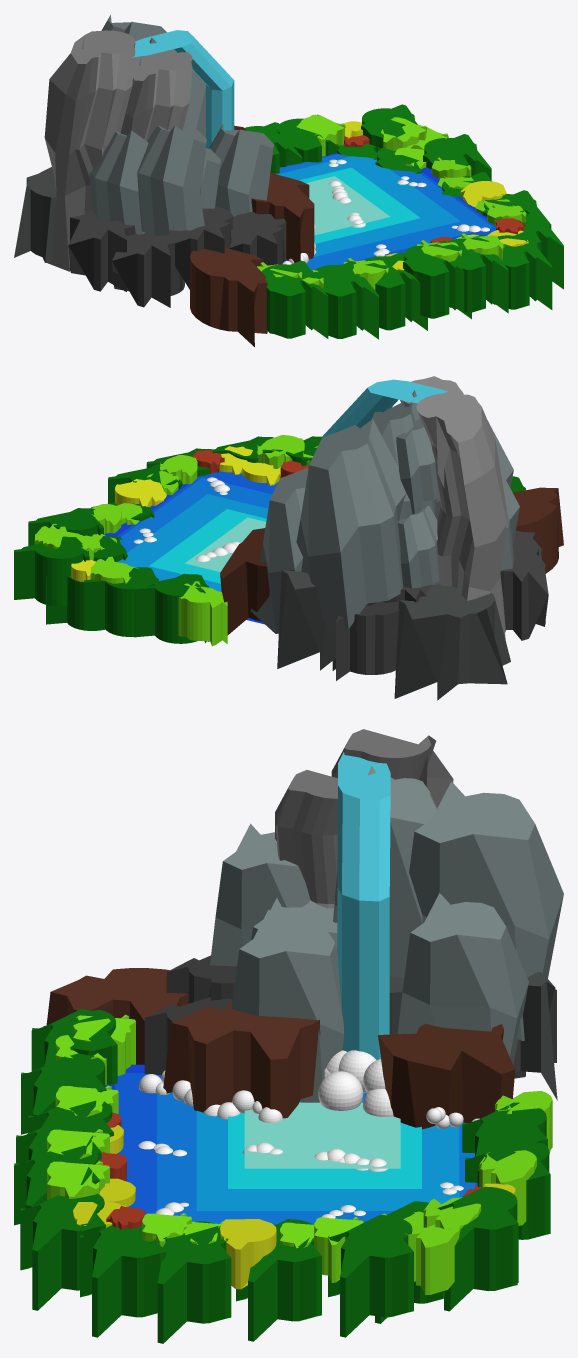
Rendered from waterfall.glb.
3 renders of one model, top to bottom at view 1: azimuth 30°, elevation 25°; view 2: azimuth 150°, elevation 25°; view 3: azimuth 270°, elevation 25°, orthographic. The views are drawn at different scales.
Visible parts, largest first — view 1: Cylinder.011, Cylinder.018, Cylinder.024, Cylinder.013, Plane.003, Cylinder.001, Cylinder.019, Cylinder.042, Cylinder.016, Plane.004, Cylinder, Cylinder.017 (+31 smaller); view 2: Cylinder.008, Cylinder.011, Cylinder.012, Cylinder.002, Cylinder.007, Cylinder.022, Cylinder.051, Plane.003, Cylinder.017, Cylinder.003, Cylinder.034, Cylinder.036 (+29 smaller); view 3: Cylinder.008, Cylinder, Cylinder.002, Cylinder.004, Cylinder.001, Cylinder.003, Plane.003, Plane.001, Cylinder.059, Cylinder.018, Cylinder.062, Cylinder.061 (+36 smaller).
Part boxes in pixels (x1,y1,x2,y2): Cylinder.011: (44, 30, 135, 271); Cylinder.018: (137, 125, 206, 235); Cylinder.024: (190, 248, 267, 346); Cylinder.013: (120, 49, 192, 141); Plane.003: (277, 156, 460, 256); Cylinder.001: (209, 124, 273, 216); Cylinder.019: (89, 130, 148, 234); Cylinder.042: (261, 260, 328, 338); Cylinder.016: (112, 233, 184, 307); Plane.004: (274, 152, 492, 270); Cylinder: (131, 30, 234, 148); Cylinder.017: (68, 210, 135, 291); Cylinder.008: (296, 419, 406, 631); Cylinder.011: (416, 390, 506, 639); Cylinder.012: (394, 584, 510, 700); Cylinder.002: (250, 468, 308, 633); Cylinder.007: (277, 570, 375, 670); Cylinder.022: (332, 601, 399, 680); Cylinder.051: (14, 536, 89, 606); Plane.003: (117, 494, 268, 591); Cylinder.017: (500, 545, 548, 640); Cylinder.003: (220, 528, 269, 635); Cylinder.034: (134, 573, 209, 643); Cylinder.036: (84, 567, 158, 636); Cylinder.008: (409, 781, 563, 1040); Cylinder: (337, 752, 390, 1059); Cylinder.002: (397, 893, 528, 1064); Cylinder.004: (163, 1002, 320, 1118); Cylinder.001: (231, 909, 344, 1102); Cylinder.003: (378, 1023, 515, 1129); Plane.003: (196, 1100, 459, 1210); Plane.001: (244, 1102, 400, 1168); Cylinder.059: (328, 1215, 413, 1337); Cylinder.018: (210, 823, 310, 966); Cylinder.062: (80, 1225, 165, 1337); Cylinder.061: (148, 1221, 231, 1343).
Size of the model in its own units: 18.1 by 10.15 by 13.98.
